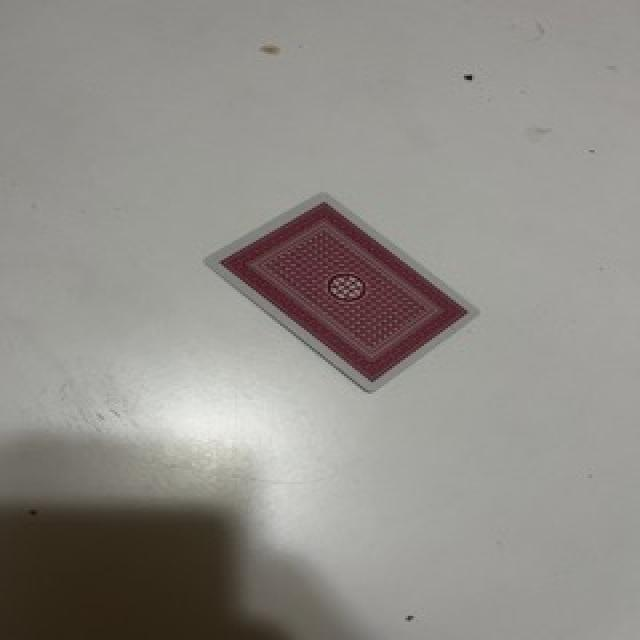card back: (207, 194, 475, 391)
